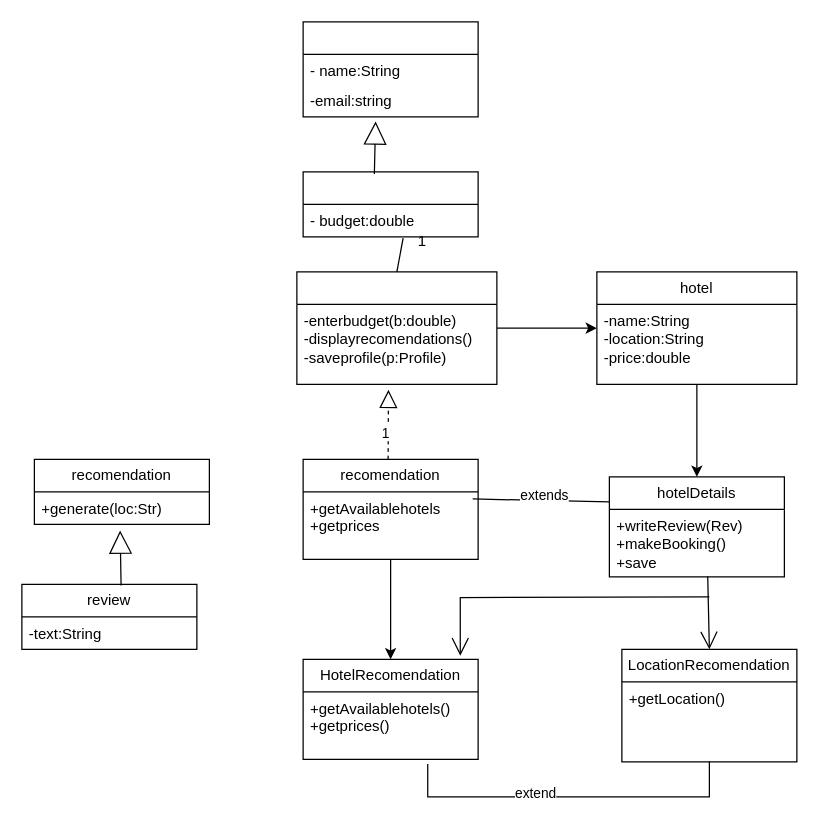
This 819x823 diagram has some shape labels left out. Each missing label, with the box of its shape:
profile: (302, 171, 478, 237)
travel assistance: (296, 271, 497, 384)
user: (302, 21, 478, 117)
